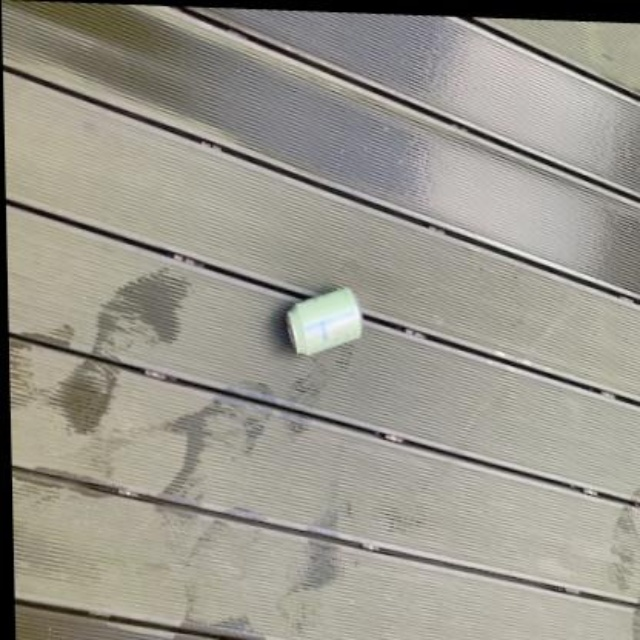trash: (286, 288, 362, 354)
